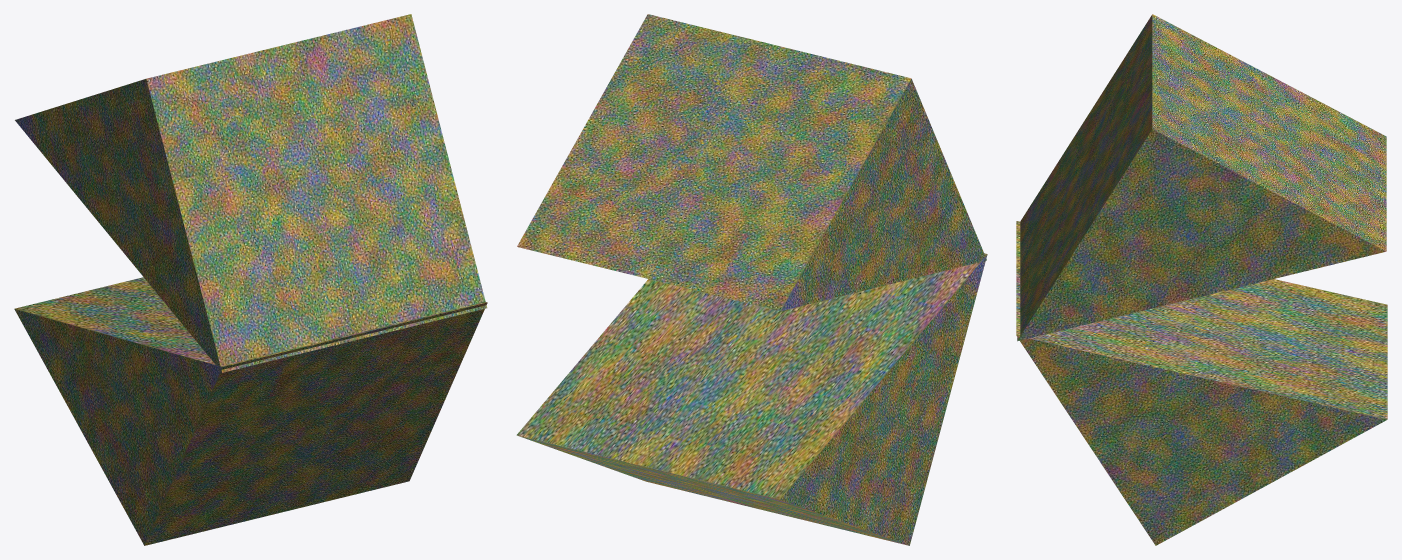
File: enemy_01.glb
3 views of the same model, side by side, from view 1: azimuth 30°, elevation 25°; view 2: azimuth 150°, elevation 25°; view 3: azimuth 270°, elevation 25° (orthographic). The views are drawn at different scales.
Parts seen in each view (by area): view 1: Cube, Cube.001; view 2: Cube, Cube.001; view 3: Cube, Cube.001.
Part boxes in pixels (bbox=[...]): Cube: bbox=[15, 14, 487, 372]; Cube.001: bbox=[14, 277, 487, 545]; Cube: bbox=[517, 14, 986, 311]; Cube.001: bbox=[516, 253, 987, 545]; Cube: bbox=[1017, 14, 1386, 341]; Cube.001: bbox=[1016, 221, 1387, 545].
Size of the model in its own units: 2 by 3.38 by 2.72.
2 materials, 2 textured.
